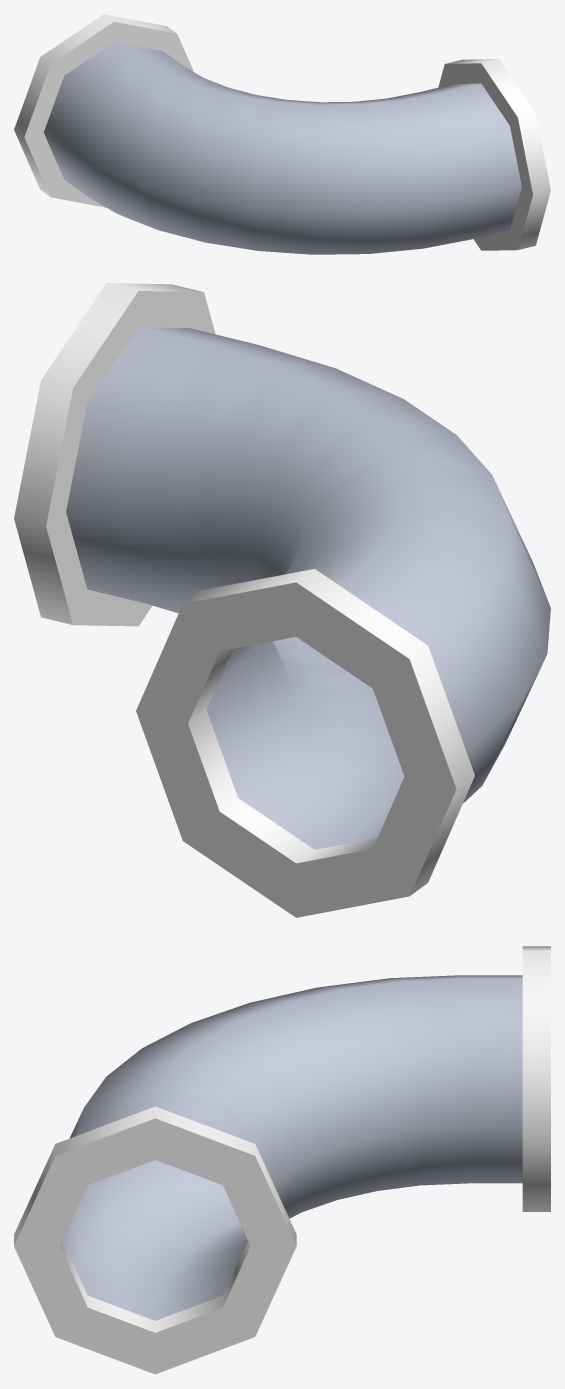
File: pipe-glass-large-bend.glb
3 views of the same model, one above another, from view 1: azimuth 30°, elevation 25°; view 2: azimuth 150°, elevation 25°; view 3: azimuth 270°, elevation 25° (orthographic). The views are drawn at different scales.
Visible parts, largest first — view 1: pipe-glass-large-bend; view 2: pipe-glass-large-bend; view 3: pipe-glass-large-bend.
Part boxes in pixels (left/top/right/bottom): pipe-glass-large-bend: left=14, top=14, right=550, bottom=254; pipe-glass-large-bend: left=14, top=283, right=550, bottom=917; pipe-glass-large-bend: left=14, top=946, right=550, bottom=1374.
Bounding box in the file's own units: 1.9 × 1 × 1.9.
